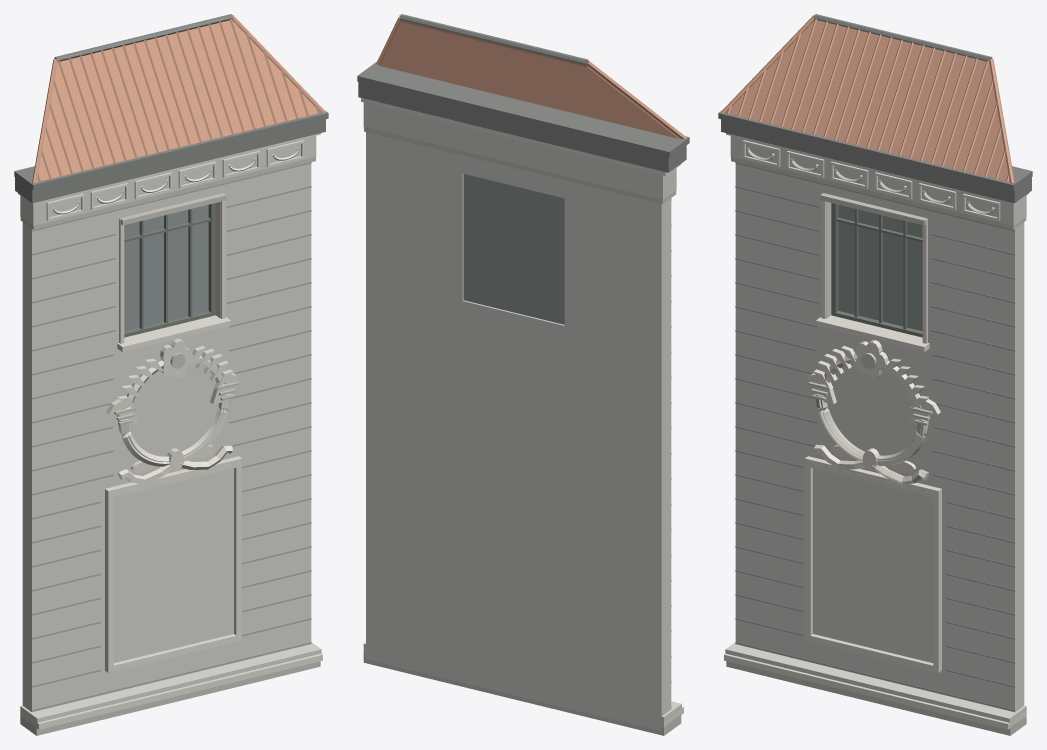
Rendered from huangpu-shanghai-waterworks-484-corner-lod.glb.
The picture shows the model from 3 angles, left to right: view 1: azimuth 30°, elevation 25°; view 2: azimuth 150°, elevation 25°; view 3: azimuth 330°, elevation 25°; orthographic projection. The views are drawn at different scales.
Parts seen in each view (by area): view 1: 英商自来水公司大楼（自来大楼）西南转角花饰; view 2: 英商自来水公司大楼（自来大楼）西南转角花饰; view 3: 英商自来水公司大楼（自来大楼）西南转角花饰.
Boxes of the visible parts, <box> form: 英商自来水公司大楼（自来大楼）西南转角花饰: <box>14,14,328,735</box>; 英商自来水公司大楼（自来大楼）西南转角花饰: <box>357,14,689,735</box>; 英商自来水公司大楼（自来大楼）西南转角花饰: <box>718,14,1032,735</box>.
Size of the model in its own units: 6.31 by 13.06 by 1.44.
